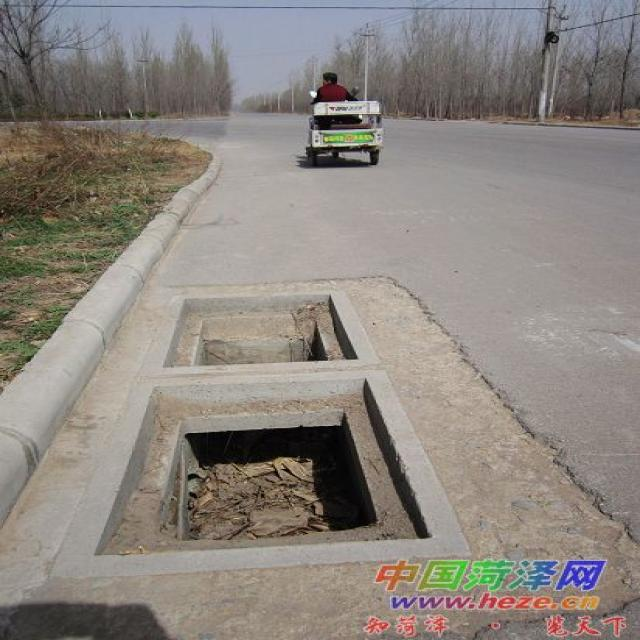cracks: (356, 263, 639, 635)
manhole-cover: (93, 376, 420, 563), (164, 294, 362, 368)
